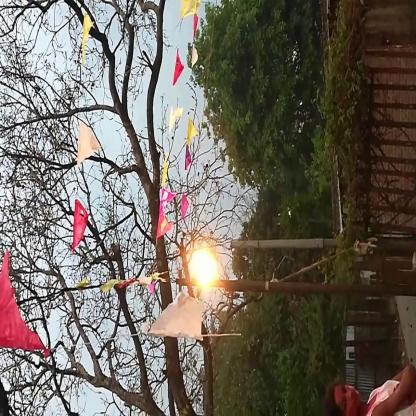other: (188, 235, 224, 302)
